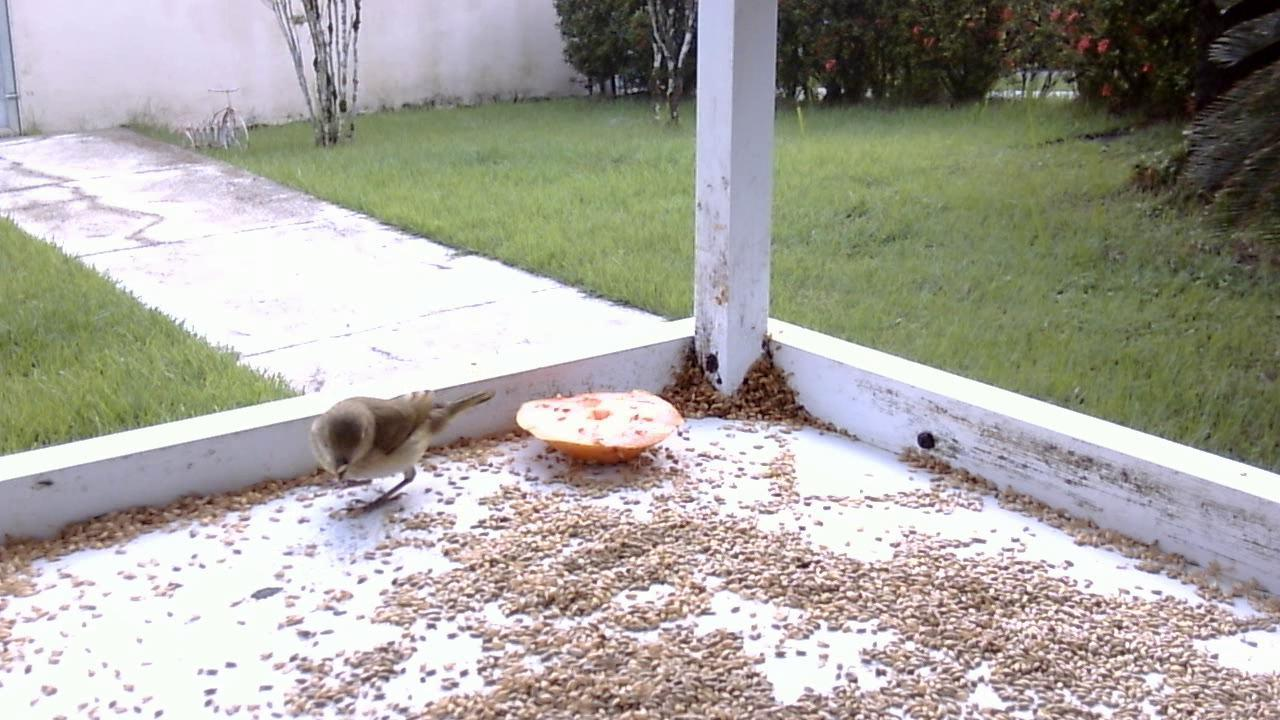canario_do_amazonas: (312, 374, 506, 526)
